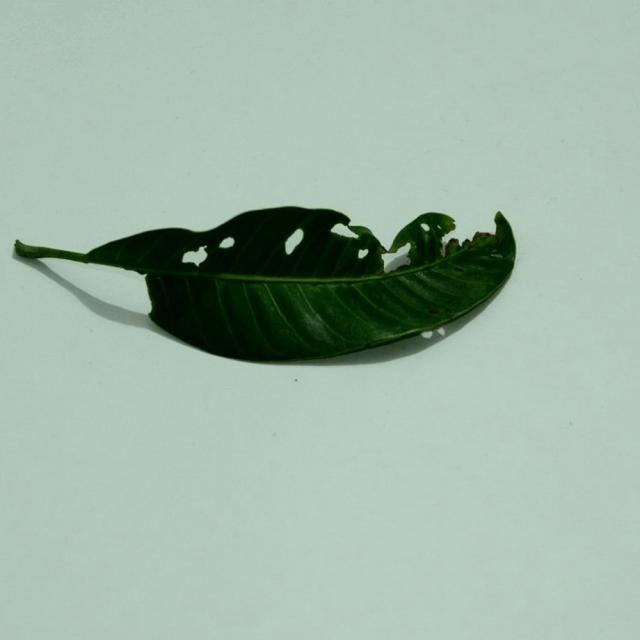Anthracnose: (381, 243, 413, 270), (285, 228, 304, 253), (181, 248, 204, 265), (437, 216, 456, 235), (219, 239, 234, 252), (357, 246, 369, 260), (420, 223, 431, 234), (421, 331, 433, 339), (436, 327, 446, 336), (453, 266, 465, 273), (428, 308, 440, 315), (490, 252, 503, 258), (443, 307, 453, 314)
Mango: (15, 208, 518, 367)
